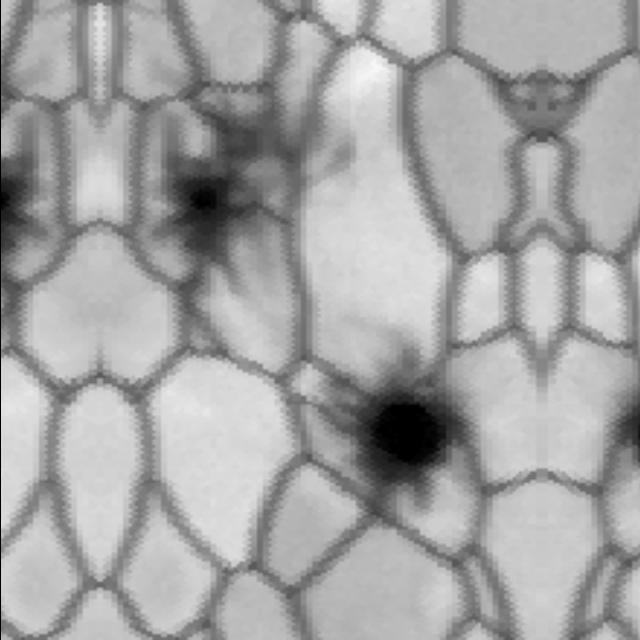good_void: (117, 57, 397, 298), (297, 330, 481, 526), (0, 79, 66, 296)
